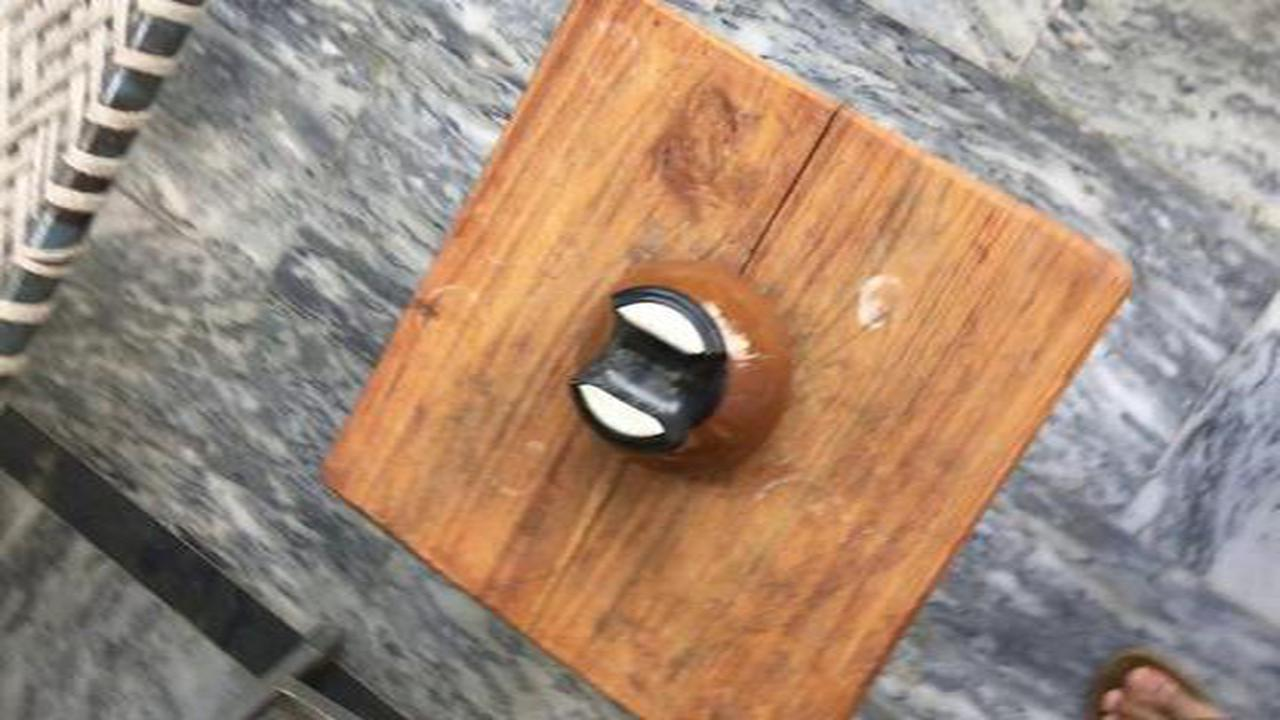insulator_pin: (539, 251, 819, 496)
